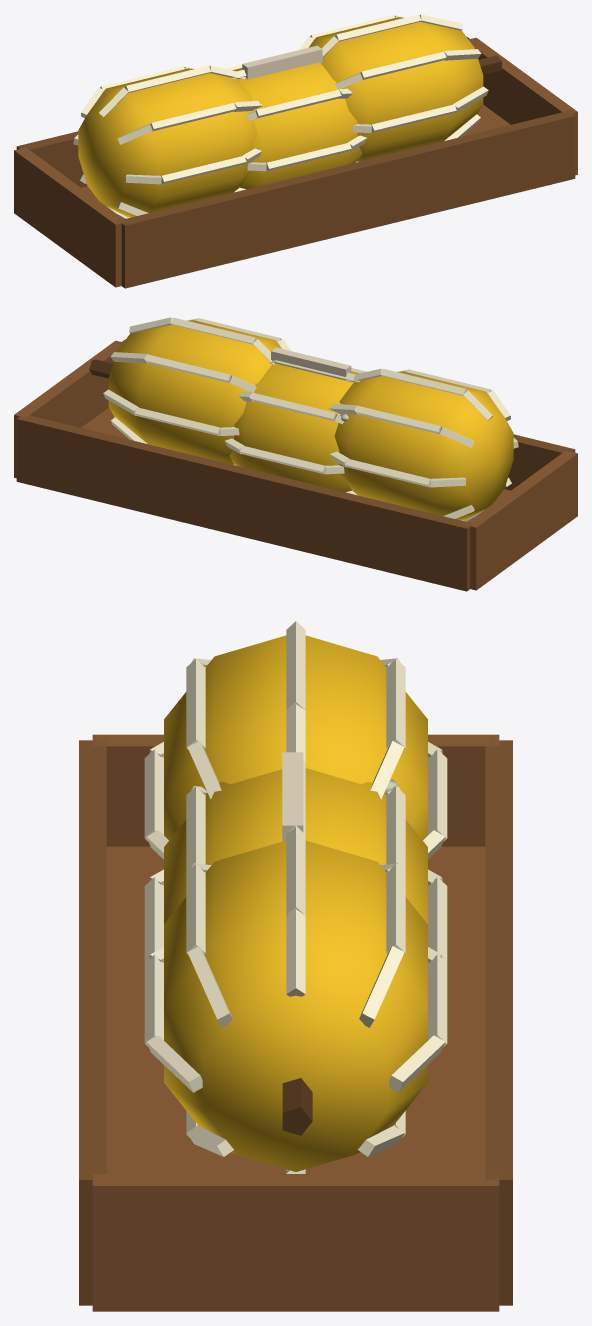
Rendered from Fruit_KoreanMelon.fbx.
3 renders of one model, top to bottom at view 1: azimuth 30°, elevation 25°; view 2: azimuth 150°, elevation 25°; view 3: azimuth 270°, elevation 25°, orthographic. The views are drawn at different scales.
Visible parts, largest first — view 1: Fruit_KoreanMelon__Stack, Fruit_KoreanMelon, Fruit_KoreanMelon__Seed; view 2: Fruit_KoreanMelon__Stack, Fruit_KoreanMelon, Fruit_KoreanMelon__Seed; view 3: Fruit_KoreanMelon__Stack, Fruit_KoreanMelon, Fruit_KoreanMelon__Seed.
Part boxes in pixels (box(x1,y1,x2,y2)): Fruit_KoreanMelon__Stack: box(14, 14, 577, 288); Fruit_KoreanMelon: box(225, 62, 366, 189); Fruit_KoreanMelon__Seed: box(242, 45, 322, 79); Fruit_KoreanMelon__Stack: box(14, 317, 577, 591); Fruit_KoreanMelon: box(225, 360, 366, 492); Fruit_KoreanMelon__Seed: box(271, 347, 351, 380); Fruit_KoreanMelon__Stack: box(79, 621, 512, 1311); Fruit_KoreanMelon: box(144, 760, 447, 962); Fruit_KoreanMelon__Seed: box(282, 752, 303, 841).
Bounding box in the file's own units: 0.308 × 0.0952 × 0.1252.
